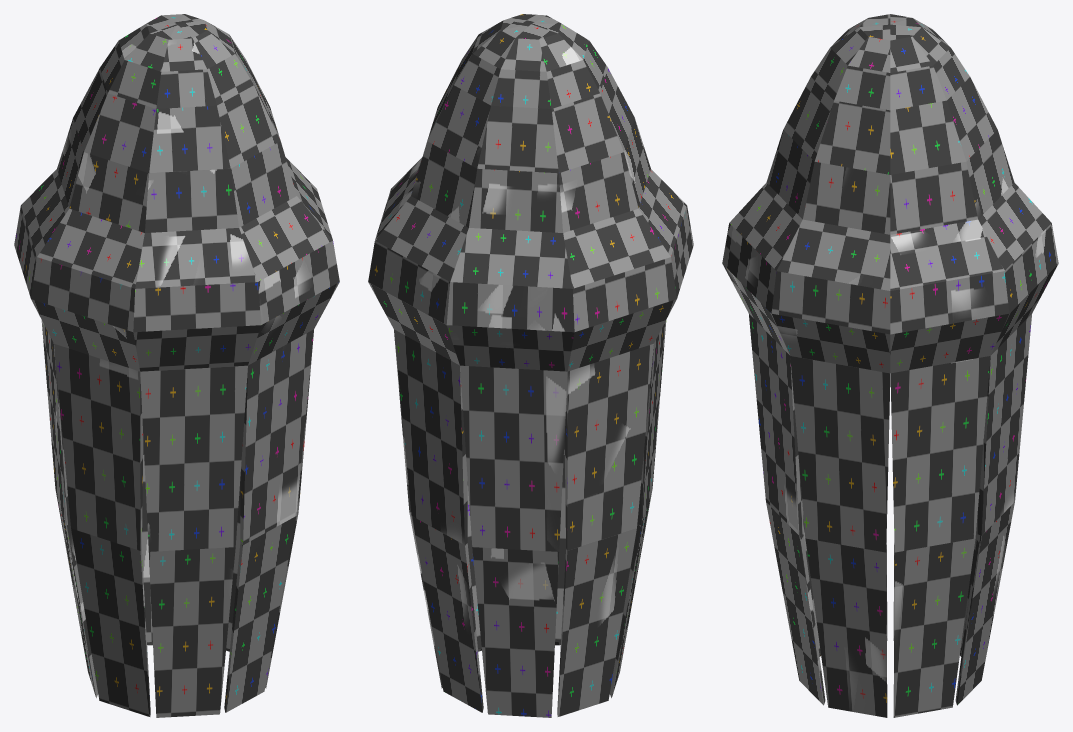
The model's file is mono_jet_02.dae.
The picture shows the model from 3 angles, left to right: view 1: azimuth 30°, elevation 25°; view 2: azimuth 150°, elevation 25°; view 3: azimuth 270°, elevation 25°; orthographic projection.
Visible parts, largest first — view 1: mono_jet_02; view 2: mono_jet_02; view 3: mono_jet_02.
Part boxes in pixels (left/top/right/bottom): mono_jet_02: left=14, top=14, right=339, bottom=717; mono_jet_02: left=368, top=14, right=693, bottom=717; mono_jet_02: left=722, top=14, right=1058, bottom=717.
Bounding box in the file's own units: 0.4118 × 0.4118 × 0.8842.
Materials: 1 (1 with a texture image).
